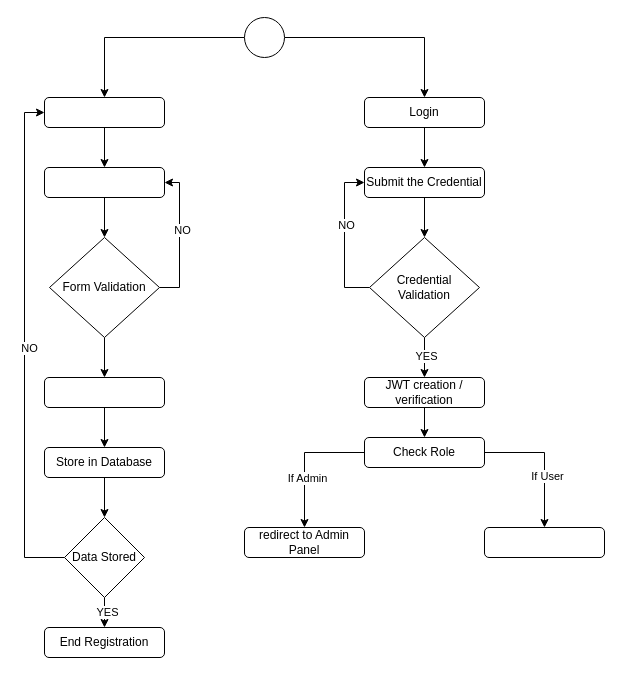
This 622x675 diagram has some shape labels left out. Each missing label, with the centre of its shape:
Form Fill up: the point at 104,182
Hashed Password: the point at 104,392
Redirect to the User Page: the point at 544,542
Registration: the point at 104,112
start: the point at 264,37
